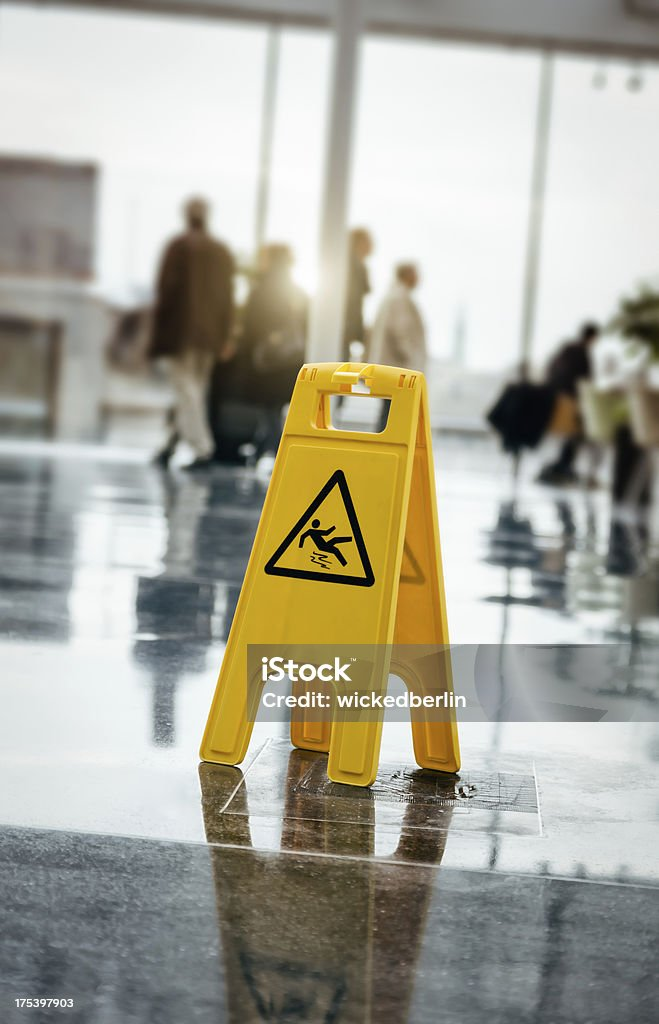wet caution sign: (169, 324, 557, 849)
